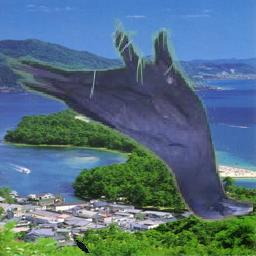Crow: (7, 12, 254, 223), (76, 239, 91, 254)
